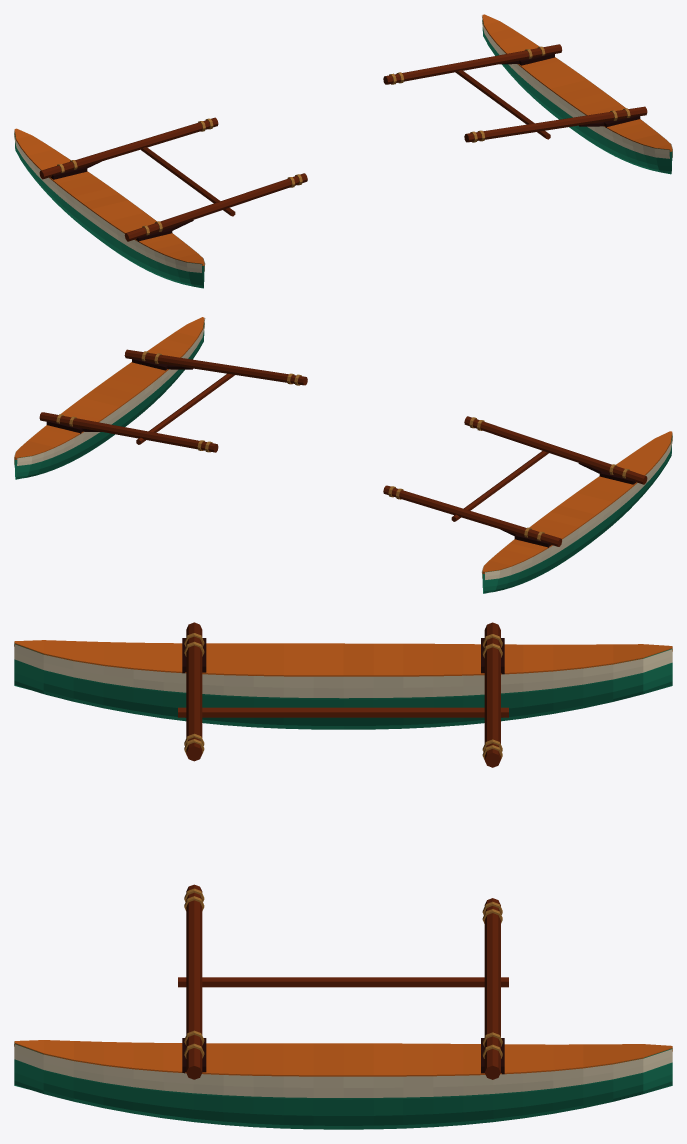
File: tb_sloop_outriggers.glb
The picture shows the model from 3 angles, top to bottom: view 1: azimuth 30°, elevation 25°; view 2: azimuth 150°, elevation 25°; view 3: azimuth 270°, elevation 25°; orthographic projection. The views are drawn at different scales.
Parts seen in each view (by area): view 1: outrigger_port, outrigger_starboard; view 2: outrigger_port, outrigger_starboard; view 3: outrigger_starboard, outrigger_port.
Boxes of the visible parts, <box> form: outrigger_port: <box>14,117,307,288</box>; outrigger_starboard: <box>383,14,672,174</box>; outrigger_port: <box>383,416,672,593</box>; outrigger_starboard: <box>14,317,307,479</box>; outrigger_starboard: <box>14,884,672,1129</box>; outrigger_port: <box>14,622,672,767</box>.
Bounding box in the file's own units: 9.7 × 1.14 × 6.09.
